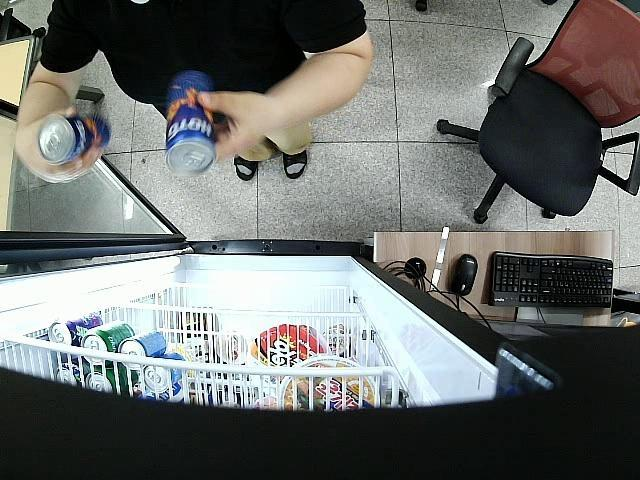16_hot6: (166, 68, 216, 172), (36, 115, 110, 164)
